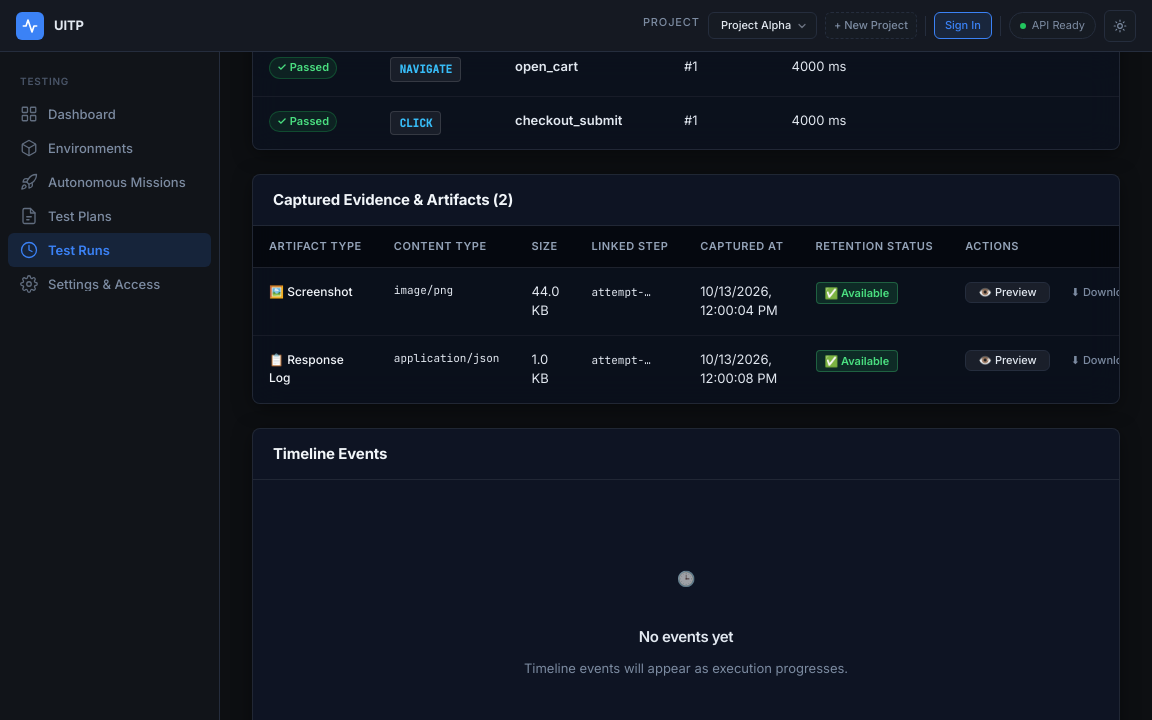
Scenario: RunDetail Page and Evidence Viewer › opens evidence preview modal and renders structured response viewer
(page scrolled)
Click Preview on second artifact
Click the button "👁️ Preview" in the row of "📋 Response Log" at [1007, 360], box x1=965 y1=350 x2=1050 y2=371
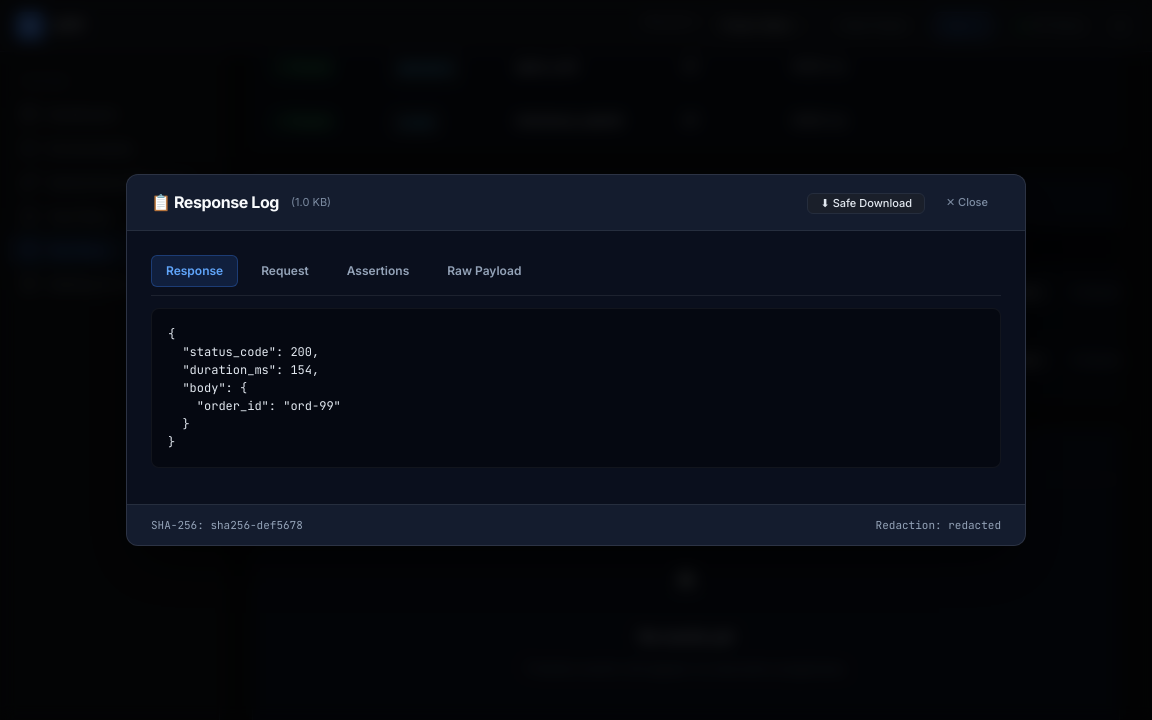
Result: the dialog named "Evidence Artifact Viewer" is shown at x1=126 y1=174 x2=1026 y2=546
Result: the button "⬇ Safe Download" is shown at x1=808 y1=193 x2=925 y2=214
Result: the text "ord-99" is shown at x1=168 y1=326 x2=341 y2=450
Close modal
Click the button "✕ Close" at [967, 202], box x1=933 y1=191 x2=1001 y2=214
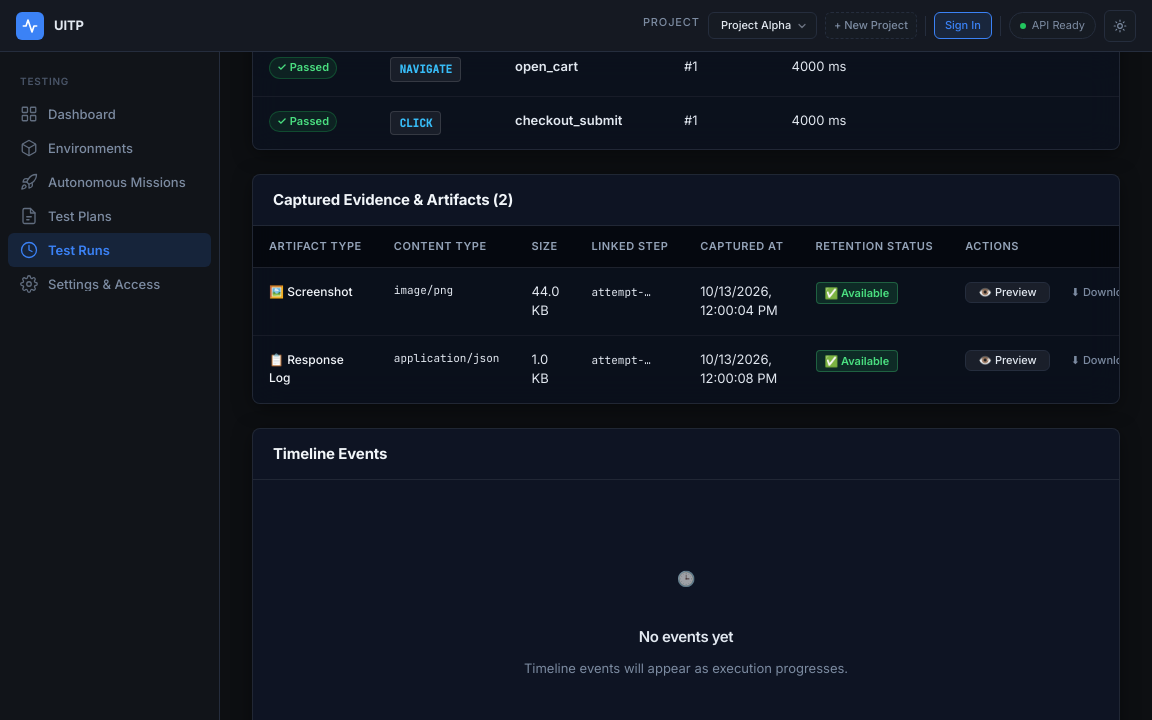
Result: the dialog is gone
